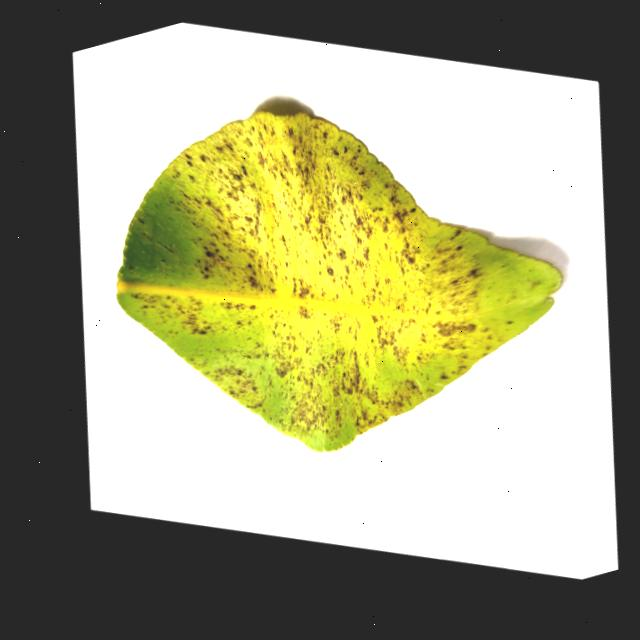melanose: (117, 111, 561, 450)
